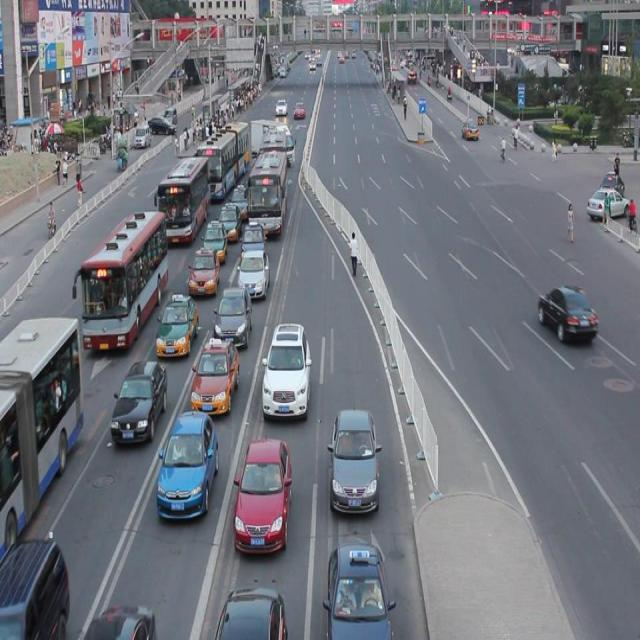bus: (250, 119, 295, 162)
car: (1, 538, 70, 640), (322, 543, 394, 640), (232, 436, 290, 550), (157, 411, 218, 517), (328, 408, 381, 513), (261, 322, 312, 418), (111, 358, 167, 443), (216, 585, 286, 640), (192, 337, 240, 416), (536, 282, 596, 340), (156, 292, 199, 357), (212, 284, 252, 348), (238, 249, 270, 296), (586, 185, 629, 218), (188, 246, 218, 293), (239, 219, 266, 261), (202, 219, 228, 261), (218, 202, 241, 240), (228, 182, 250, 220), (461, 118, 478, 140)
van: (1, 317, 83, 549), (72, 208, 166, 350), (155, 159, 211, 243), (196, 119, 250, 200), (246, 149, 286, 236), (259, 130, 287, 182)
